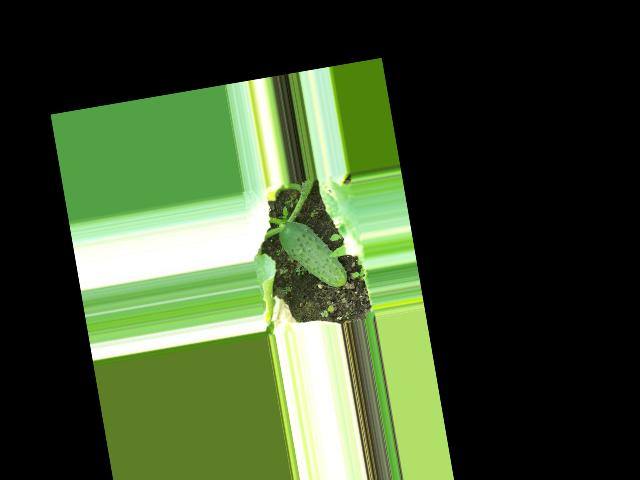cucumber: (276, 213, 348, 295)
